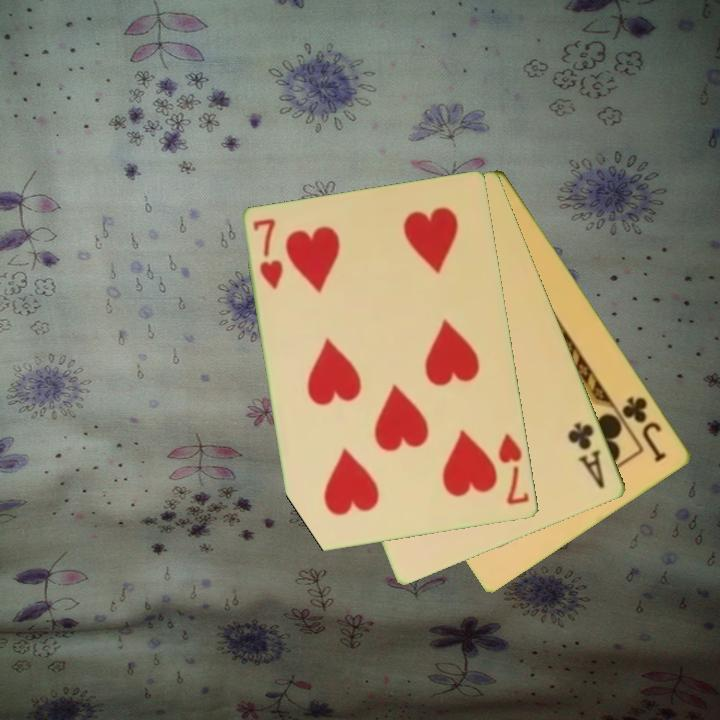7h: (495, 430, 533, 508), (250, 215, 287, 293)
Ac: (564, 419, 608, 492)
Jc: (618, 392, 670, 466)
